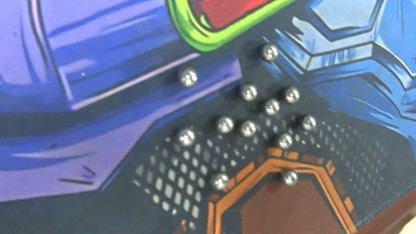ironball: (255, 38, 280, 62), (236, 115, 260, 140), (174, 127, 201, 148), (281, 80, 300, 106), (300, 111, 320, 135), (212, 166, 231, 191), (276, 127, 294, 152), (178, 67, 198, 87), (281, 168, 300, 189), (216, 115, 232, 135), (241, 83, 256, 101), (265, 98, 279, 117)
